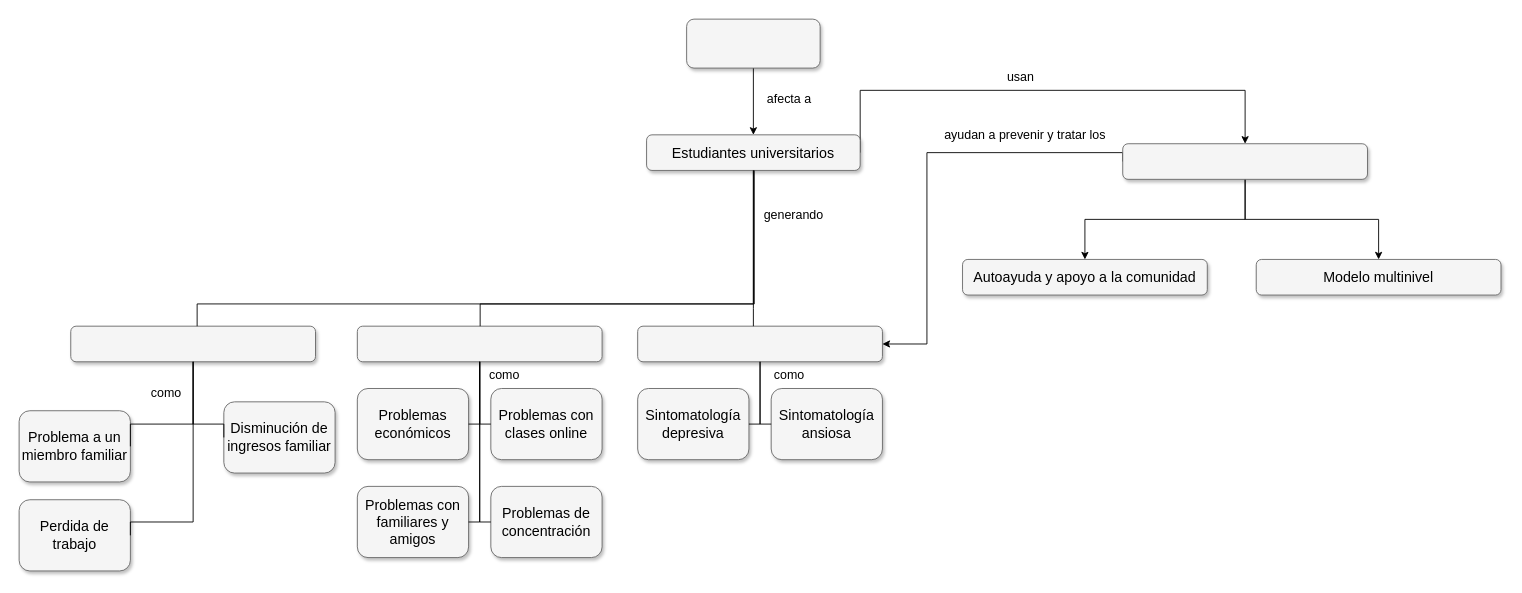
The diagram is 1522 pixels wide and 593 high, and some of its shapes have lost their labels. Here are the shapes that lost their labels. From the top down, the centre of each, then its label:
the point at 753,44: COVID -19
the point at 1245,162: Modelos de intervención en salud mental
the point at 193,345: Eventos adversos relacionados a la pandemia
the point at 480,345: Experiencias negativas
the point at 760,345: Problemas de salud mental
